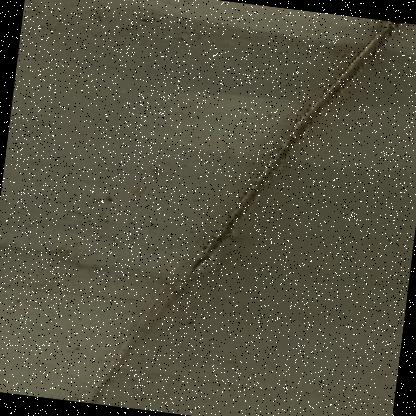Crack: (177, 0, 415, 308)
